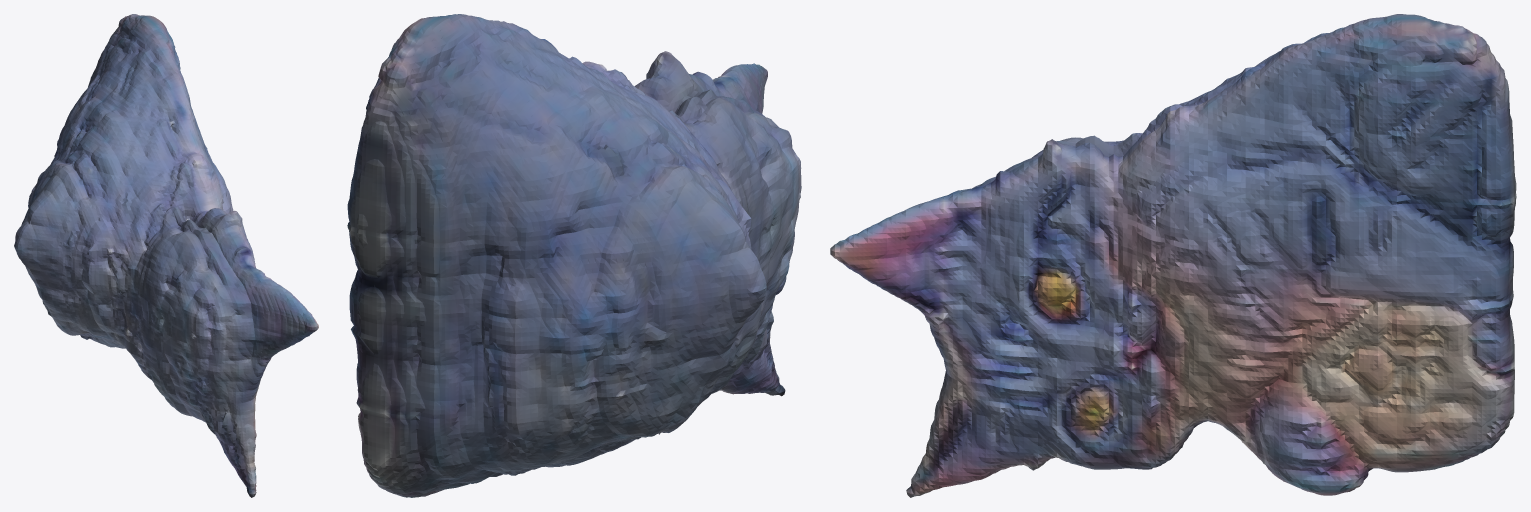
File: twinky.glb
3 renders of one model, left to right at view 1: azimuth 30°, elevation 25°; view 2: azimuth 150°, elevation 25°; view 3: azimuth 270°, elevation 25°, orthographic. The views are drawn at different scales.
Parts seen in each view (by area): view 1: world; view 2: world; view 3: world.
Boxes of the visible parts, x1,y1,x2,y2 form: world: [14, 14, 318, 497]; world: [347, 14, 801, 497]; world: [830, 14, 1516, 497].
Size of the model in its own units: 0.5054 by 0.8334 by 0.9879.
